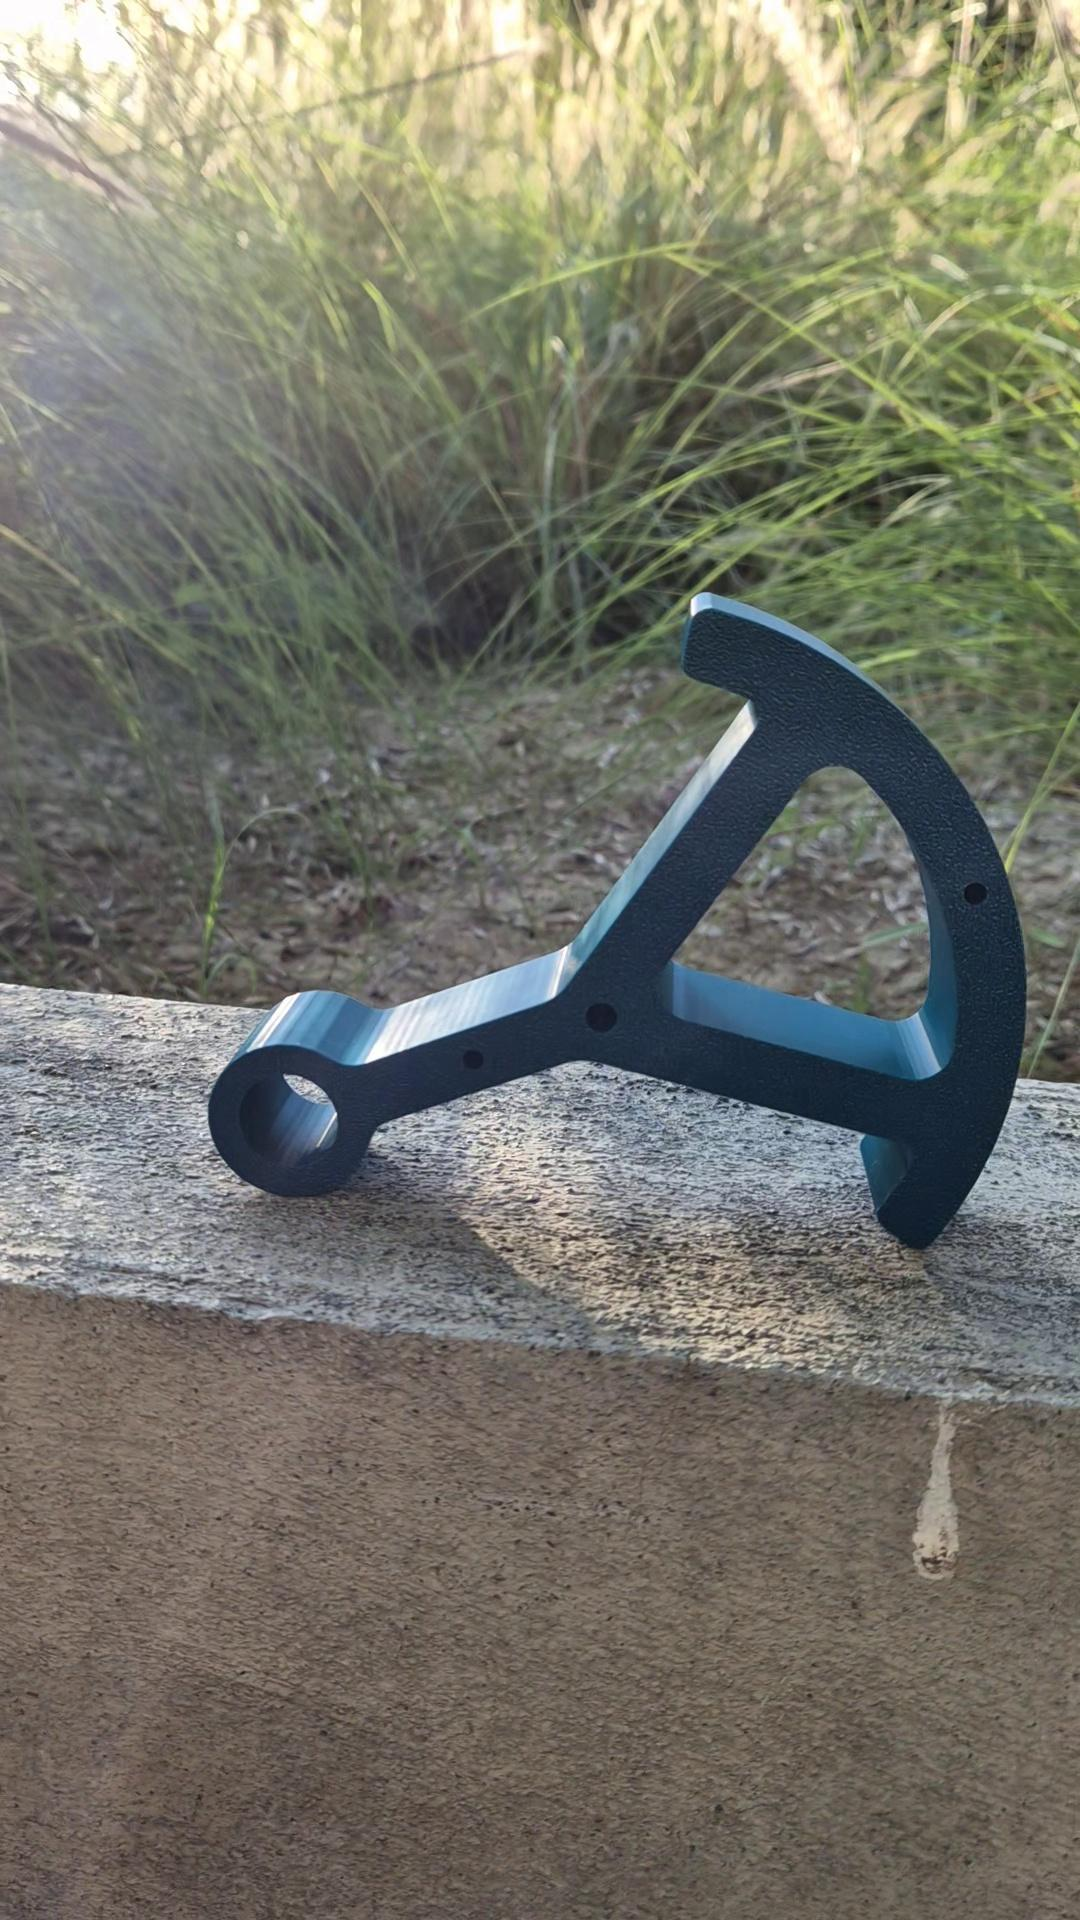Paddles: (204, 585, 1031, 1253)
